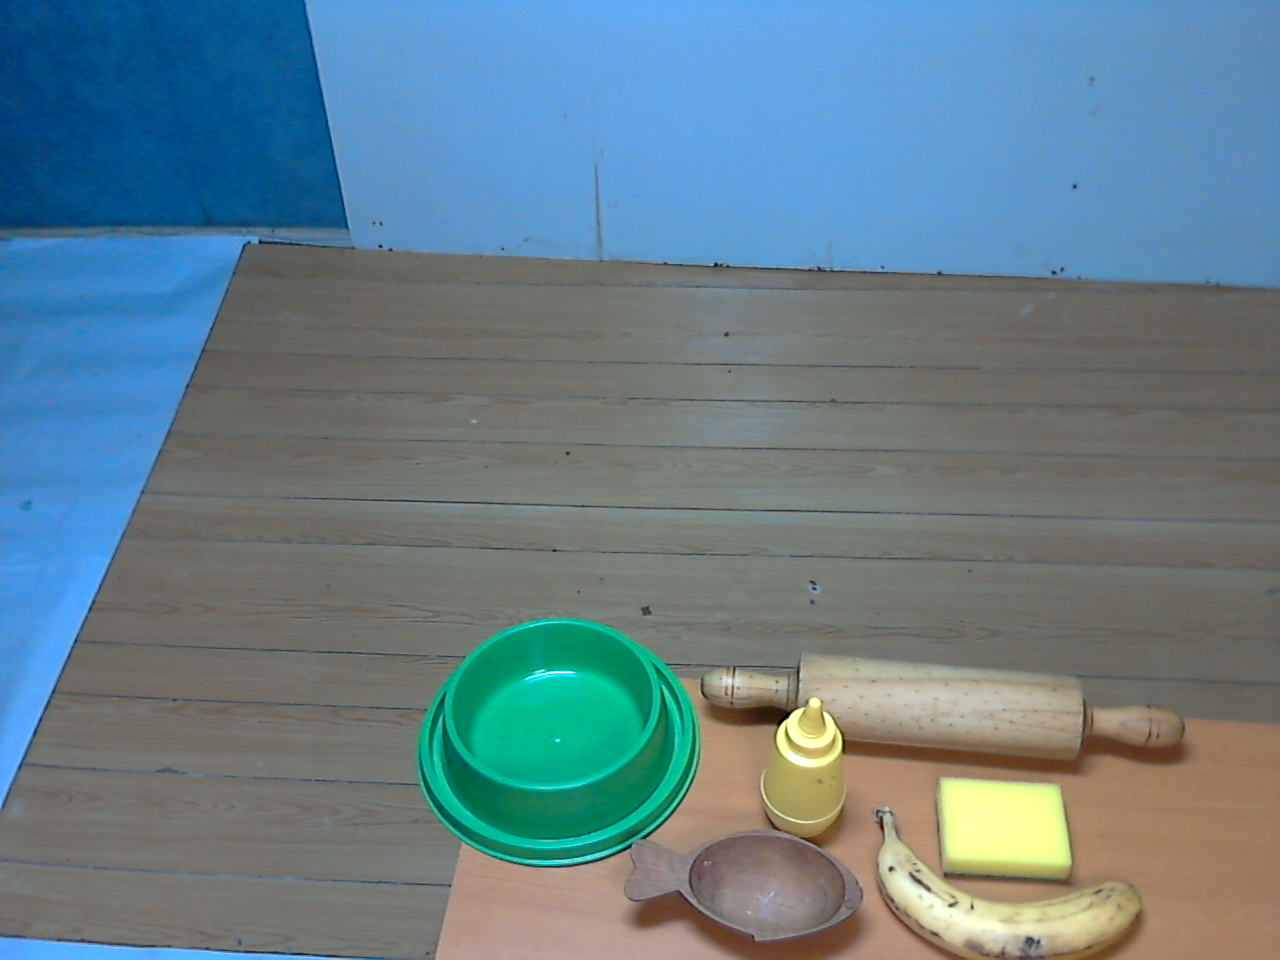esponja: (929, 770, 1080, 892)
mostaza: (751, 691, 855, 847)
pescado: (617, 820, 874, 954)
platano: (860, 797, 1151, 960)
platoperro: (416, 614, 710, 878)
uslero: (691, 639, 1204, 778)
